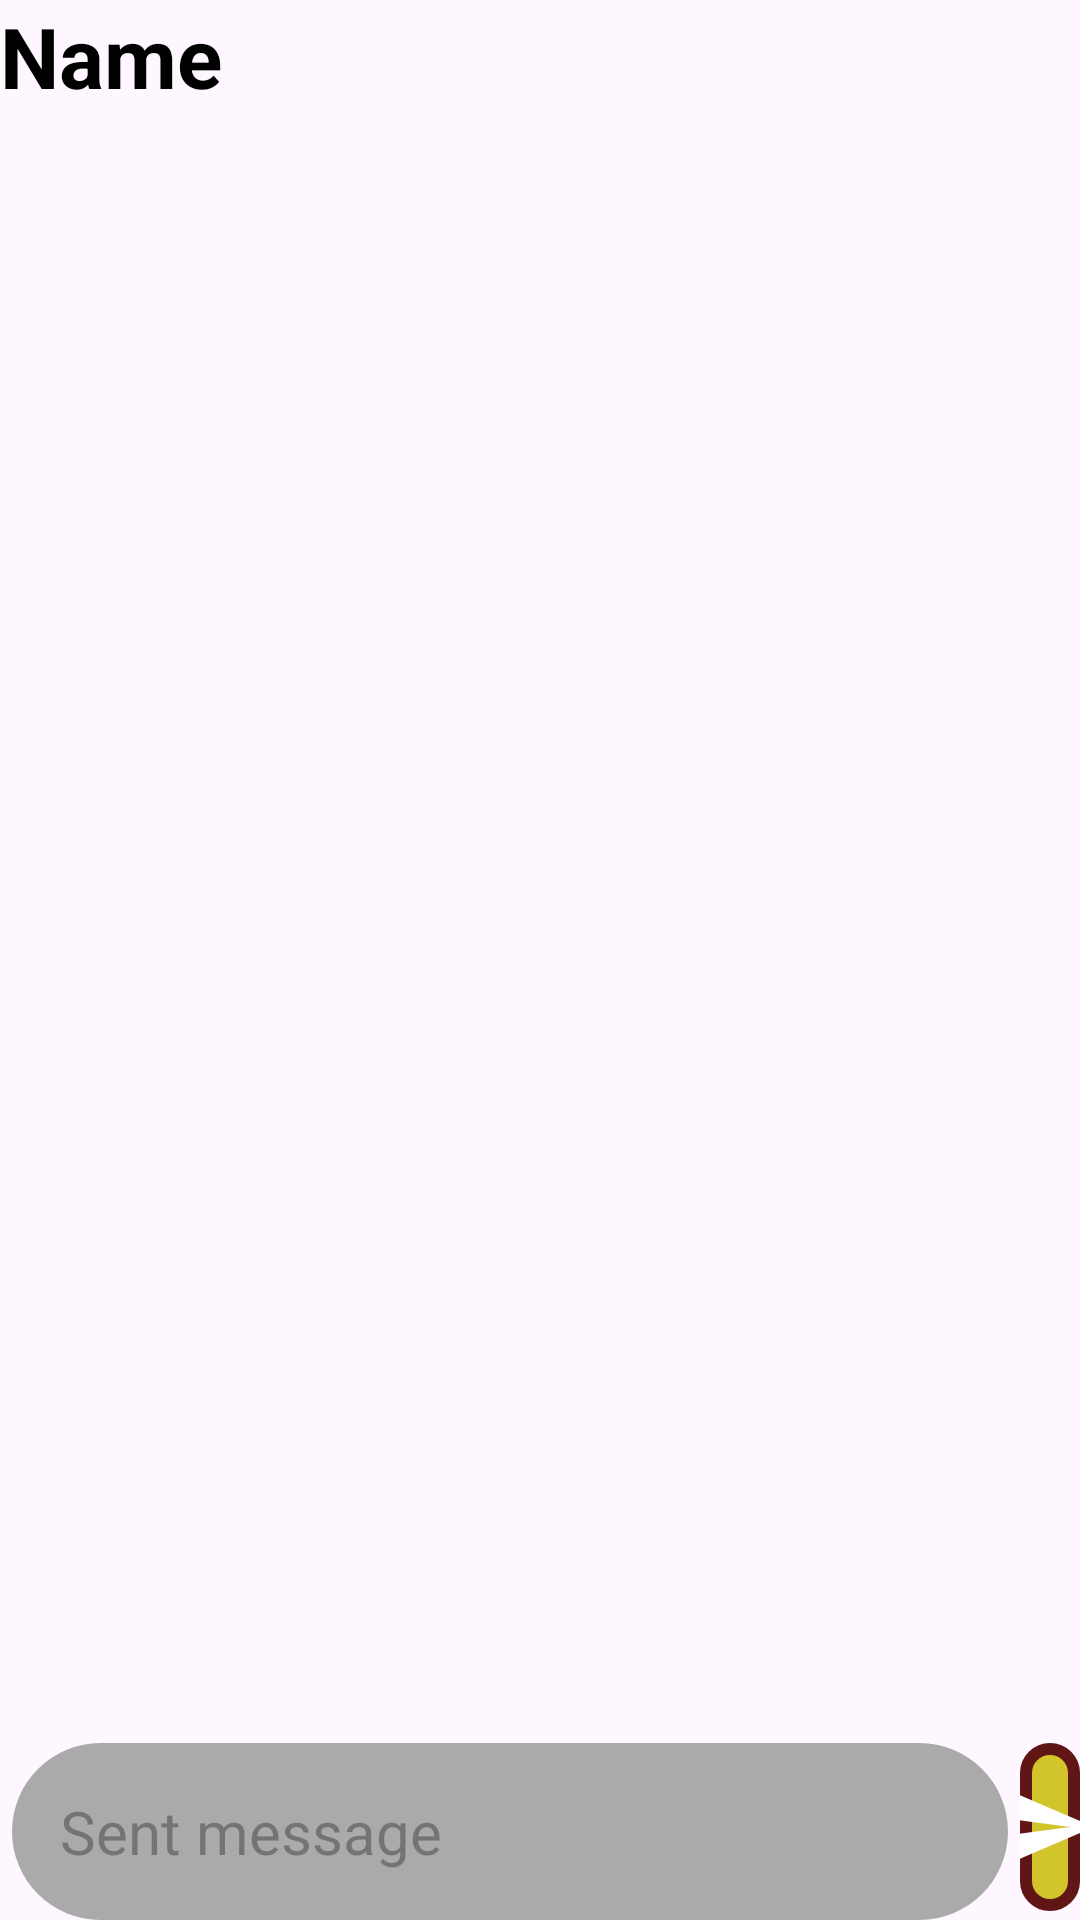

Screen size 1080 x 1920. Icon name, then its center in pixels as (x,y):
send: (1050,1827)
